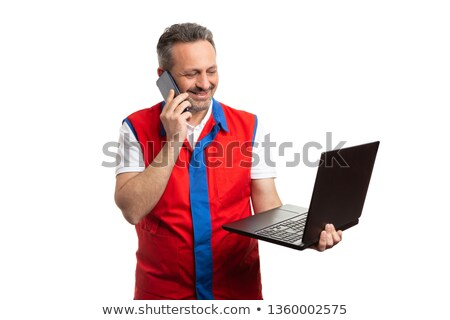phone: (149, 64, 194, 124)
talk: (144, 59, 222, 139)
